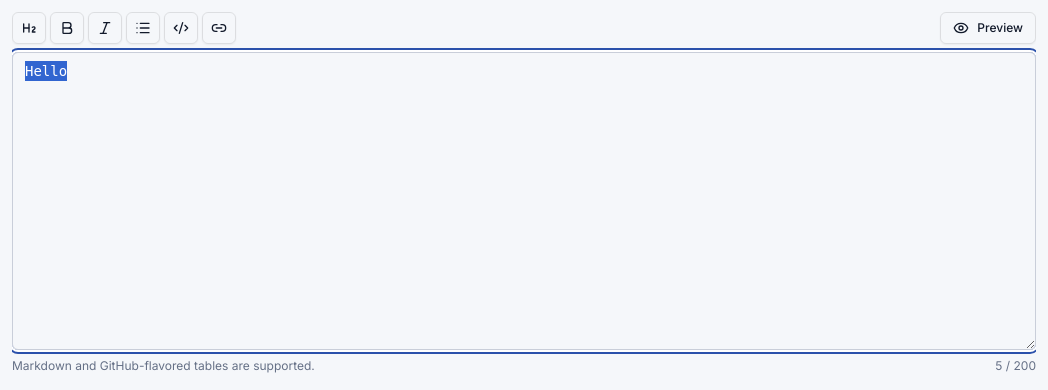
MarkdownEditor › inserts formatting around selected text
This screenshot has width=1048, height=390.
Click the button named "Bold" at (67, 28), box [50,12,84,44]
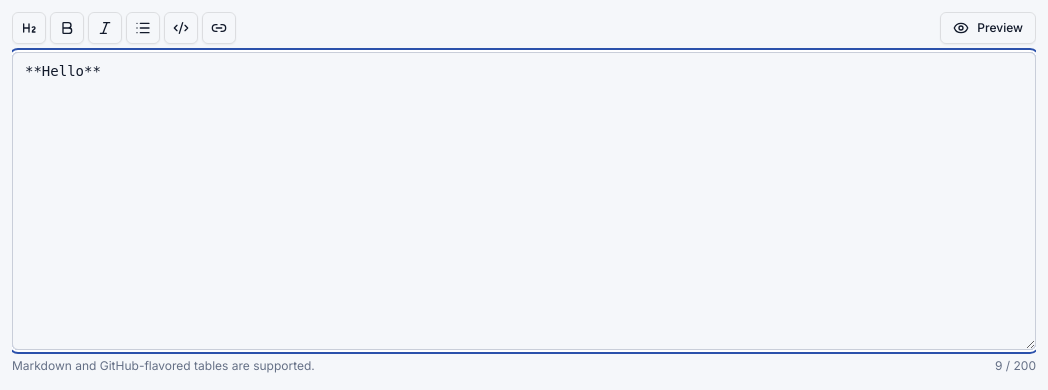
Result: the text box with test id "markdown-input" holds "**Hello**"
